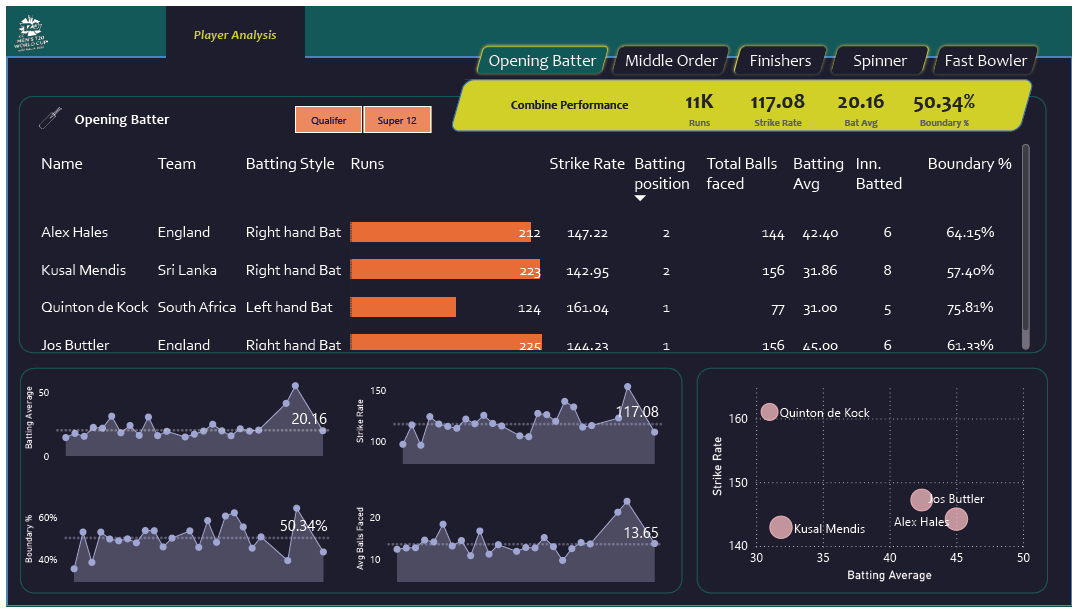

What the dashboard file says about the page in this screenshot:
{"tool":"powerbi","page":{"name":"Openers","canvas":[1280,720],"ordinal":0},"visuals":[{"type":"shape","box":[0,60,1279.8,660.5],"z":0},{"type":"card","fields":{"Values":["key_measures.Strike Rate"]},"box":[878.9,87.1,98.3,64.4],"z":0,"group":"g3"},{"type":"group","id":"g1","title":"Group 2","box":[82.2,119.9,237.8,30.4],"z":0,"group":"g2"},{"type":"shape","box":[82.2,119.9,237.8,30.4],"z":0,"group":"g1"},{"type":"card","fields":{"Values":["key_measures.Batting Average"]},"box":[978.4,87.1,98.3,64.4],"z":1000,"group":"g3"},{"type":"image","box":[30.4,116.2,44,36],"z":1000,"group":"g2"},{"type":"card","fields":{"Values":["key_measures.Boundary %"]},"box":[1078,87.1,98.3,64.4],"z":2000,"group":"g3"},{"type":"shape","box":[14.3,107.3,1235.3,309.3],"z":2000},{"type":"card","fields":{"Values":["key_measures.Total Runs"]},"box":[781.2,85.8,103.7,66.1],"z":3000,"group":"g3"},{"type":"shape","box":[15.7,433.8,796.3,271.1],"z":3000},{"type":"shape","box":[829.1,433.8,422.4,271.1],"z":4000},{"type":"tableEx","fields":{"Values":["fact_batting_summary.batsmanName","dim_players.team","dim_players.battingStyle","key_measures.Total Runs","key_measures.Strike Rate","key_measures.Batting position","key_measures.Total Balls faced","key_measures.Batting Average","key_measures.Total Innings Batted","key_measures.Boundary %"]},"box":[30,159.8,1204.4,256.9],"z":5000},{"type":"scatterChart","fields":{"Y":["key_measures.Strike Rate"],"X":["key_measures.Batting Average"],"Category":["fact_batting_summary.batsmanName"],"Size":["key_measures.Total Runs"]},"box":[840.5,442.4,393.8,252.6],"z":6000},{"type":"areaChart","fields":{"Y":["key_measures.Batting Average"],"Category":["dim_match_summary.matchDate.Variation.Date Hierarchy.Year","dim_match_summary.matchDate.Variation.Date Hierarchy.Month","dim_match_summary.matchDate.Variation.Date Hierarchy.Day"]},"box":[16.1,434.4,379,119.8],"z":7000},{"type":"areaChart","fields":{"Category":["dim_match_summary.matchDate.Variation.Date Hierarchy.Year","dim_match_summary.matchDate.Variation.Date Hierarchy.Month","dim_match_summary.matchDate.Variation.Date Hierarchy.Day"],"Y":["key_measures.Boundary %"]},"box":[15.7,575.1,379.6,119.9],"z":8000},{"type":"areaChart","fields":{"Category":["dim_match_summary.matchDate.Variation.Date Hierarchy.Year","dim_match_summary.matchDate.Variation.Date Hierarchy.Month","dim_match_summary.matchDate.Variation.Date Hierarchy.Day"],"Y":["key_measures.Average Balls Faced"]},"box":[413.8,575.1,379.6,119.9],"z":9000},{"type":"areaChart","fields":{"Category":["dim_match_summary.matchDate.Variation.Date Hierarchy.Year","dim_match_summary.matchDate.Variation.Date Hierarchy.Month","dim_match_summary.matchDate.Variation.Date Hierarchy.Day"],"Y":["key_measures.Strike Rate"]},"box":[413.8,433.8,379.6,119.9],"z":10000},{"type":"group","id":"g2","title":"Group 1","box":[30.4,116.2,289.5,36],"z":11000},{"type":"slicer","fields":{"Values":["dim_match_summary.Stages"]},"box":[320,110.8,214.5,48.3],"z":12000},{"type":"shape","box":[532.7,87.6,702.6,62.6],"z":13000},{"type":"shape","box":[559.4,99.9,234,35.7],"z":13500},{"type":"group","id":"g3","title":"Group 3","box":[781.2,85.8,395.1,66.1],"z":13750},{"type":"image","box":[4.3,2.9,48.5,58.5],"z":14000},{"type":"actionButton","box":[559.4,42.6,168.4,41.4],"z":15000},{"type":"actionButton","box":[723.5,42.6,149.8,41.4],"z":16000},{"type":"actionButton","box":[869,42.6,121.3,41.4],"z":17000},{"type":"actionButton","box":[986,42.6,127,41.4],"z":18000},{"type":"actionButton","title":"Button Player Ana selected","box":[191,0,166,66],"z":19000},{"type":"actionButton","box":[1108.8,42.6,135.6,41.4],"z":20000}]}

Visuals, with their boxes in screenshot pixels (x1, y1, x2, y2), scaled from the page's 1280x720 canvas onto the 1075x613 screenshot:
shape: (0, 51, 1074, 612)
card - key_measures.Strike Rate: (738, 74, 821, 129)
"Group 2" group: (69, 102, 269, 128)
shape: (69, 102, 269, 128)
card - key_measures.Batting Average: (822, 74, 904, 129)
image: (26, 99, 62, 130)
card - key_measures.Boundary %: (905, 74, 988, 129)
shape: (12, 91, 1049, 355)
card - key_measures.Total Runs: (656, 73, 743, 129)
shape: (13, 369, 682, 600)
shape: (696, 369, 1051, 600)
tableEx - fact_batting_summary.batsmanName x dim_players.team: (25, 136, 1037, 355)
scatterChart - key_measures.Strike Rate x key_measures.Batting Average: (706, 377, 1037, 592)
areaChart - key_measures.Batting Average x dim_match_summary.matchDate.Variation.Date Hierarchy.Year: (14, 370, 332, 472)
areaChart - dim_match_summary.matchDate.Variation.Date Hierarchy.Year x dim_match_summary.matchDate.Variation.Date Hierarchy.Month: (13, 490, 332, 592)
areaChart - dim_match_summary.matchDate.Variation.Date Hierarchy.Year x dim_match_summary.matchDate.Variation.Date Hierarchy.Month: (348, 490, 666, 592)
areaChart - dim_match_summary.matchDate.Variation.Date Hierarchy.Year x dim_match_summary.matchDate.Variation.Date Hierarchy.Month: (348, 369, 666, 471)
"Group 1" group: (26, 99, 269, 130)
slicer - dim_match_summary.Stages: (269, 94, 449, 135)
shape: (447, 75, 1037, 128)
shape: (470, 85, 666, 115)
"Group 3" group: (656, 73, 988, 129)
image: (4, 2, 44, 52)
actionButton: (470, 36, 611, 72)
actionButton: (608, 36, 733, 72)
actionButton: (730, 36, 832, 72)
actionButton: (828, 36, 935, 72)
"Button Player Ana selected" actionButton: (160, 0, 300, 56)
actionButton: (931, 36, 1045, 72)
